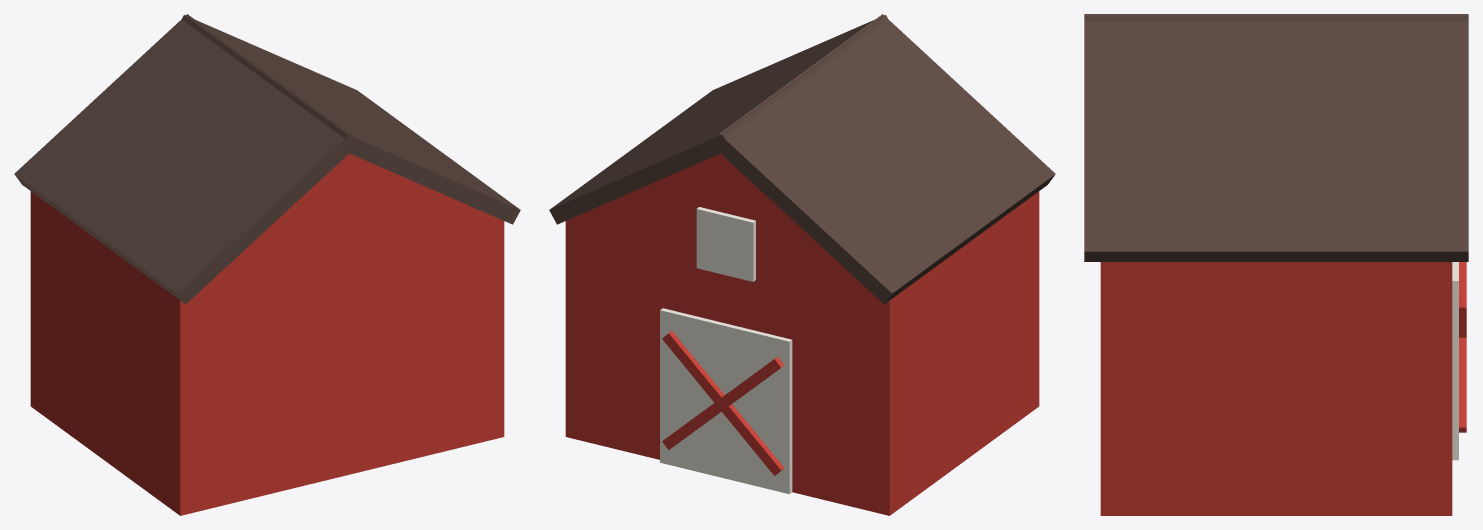
File: Barn.fbx
3 renders of one model, left to right at view 1: azimuth 30°, elevation 25°; view 2: azimuth 150°, elevation 25°; view 3: azimuth 270°, elevation 25°, orthographic. The views are drawn at different scales.
Visible parts, largest first — view 1: BarnRed, Roof, Gable; view 2: BarnRed, Roof, Trim, Gable, DoorCross; view 3: Roof, BarnRed, Trim, DoorCross.
Boxes of the visible parts, <box> form: BarnRed: <box>30,191,504,515</box>; Roof: <box>14,14,520,304</box>; Gable: <box>201,153,497,290</box>; BarnRed: <box>565,191,1039,515</box>; Roof: <box>549,14,1055,304</box>; Trim: <box>660,207,792,494</box>; Gable: <box>572,153,868,290</box>; DoorCross: <box>662,331,784,475</box>; Roof: <box>1084,14,1468,261</box>; BarnRed: <box>1100,262,1452,515</box>; Trim: <box>1452,262,1458,460</box>; DoorCross: <box>1459,262,1466,432</box>.
Size of the model in its own units: 4.24 by 4.1 by 3.5.
